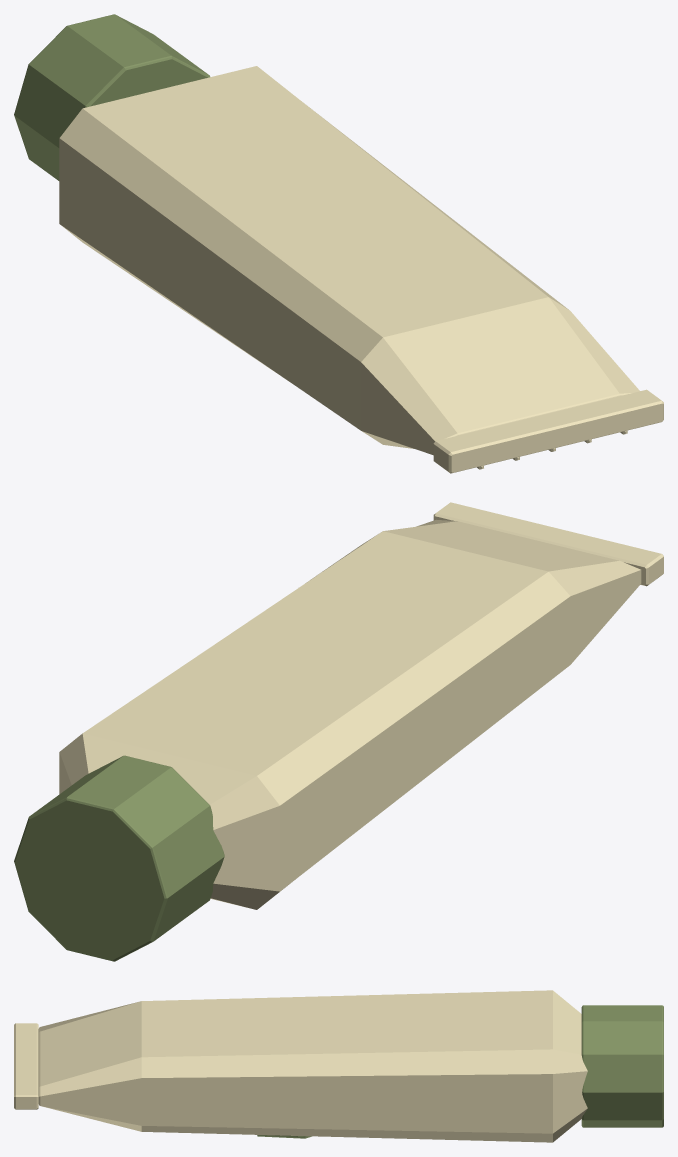
The model's file is toothpaste.glb.
3 renders of one model, top to bottom at view 1: azimuth 30°, elevation 25°; view 2: azimuth 150°, elevation 25°; view 3: azimuth 270°, elevation 25°, orthographic. The views are drawn at different scales.
Visible parts, largest first — view 1: toothpaste; view 2: toothpaste; view 3: toothpaste.
Part boxes in pixels (bbox=[...]): toothpaste: bbox=[14, 14, 663, 473]; toothpaste: bbox=[14, 502, 663, 961]; toothpaste: bbox=[14, 990, 663, 1142].
Bounding box in the file's own units: 0.043 × 0.0285 × 0.158.
